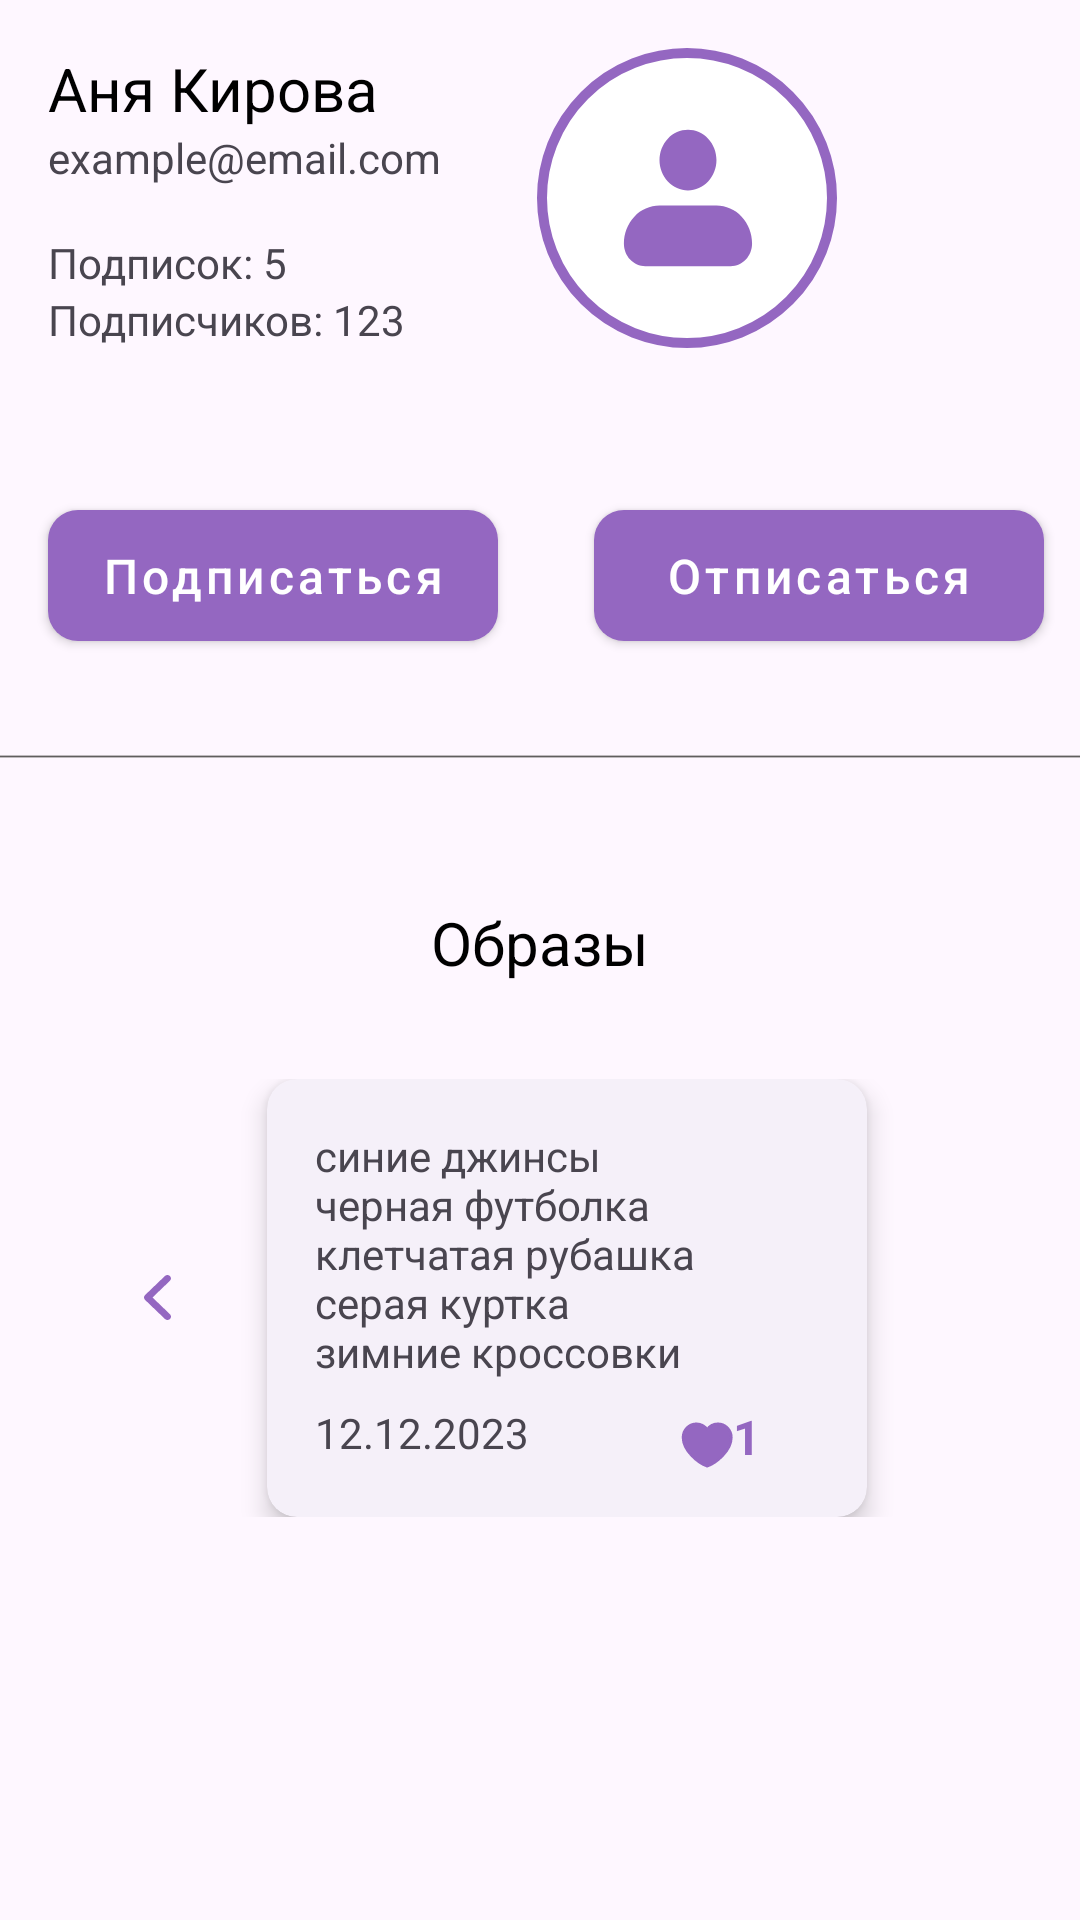

Screen size 1080 x 1920. Icon name, then its box in pixels as box(x1, y1, x2, y2):
arrow left: box(144, 1275, 171, 1320)
heart: box(681, 1422, 733, 1468)
profile plug: box(537, 48, 837, 348)
